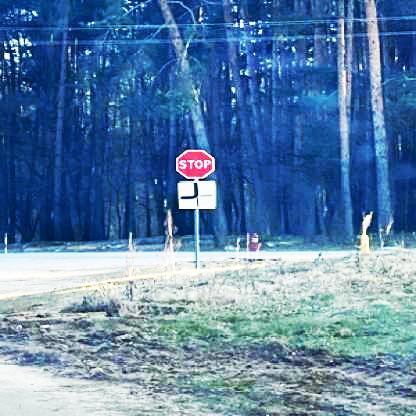Stop Sign: (172, 148, 218, 183)
